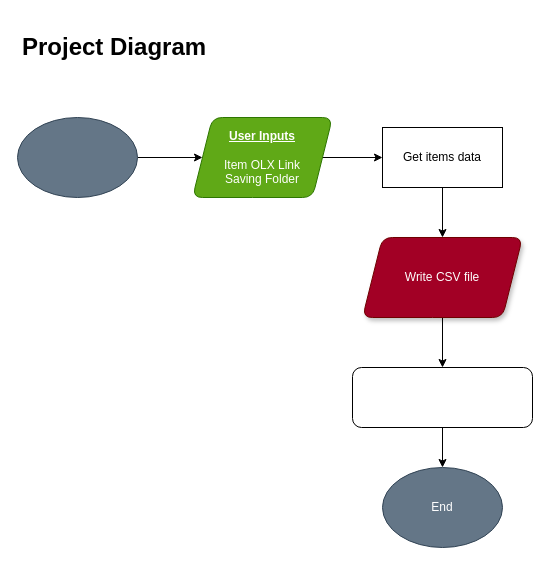
The diagram is 550 pixels wide and 565 high, and some of its shapes have lost their labels. The centre of each missing label's shape, as x and y in pixels:
Save CSV file to folder: (442,397)
Start: (77,157)
